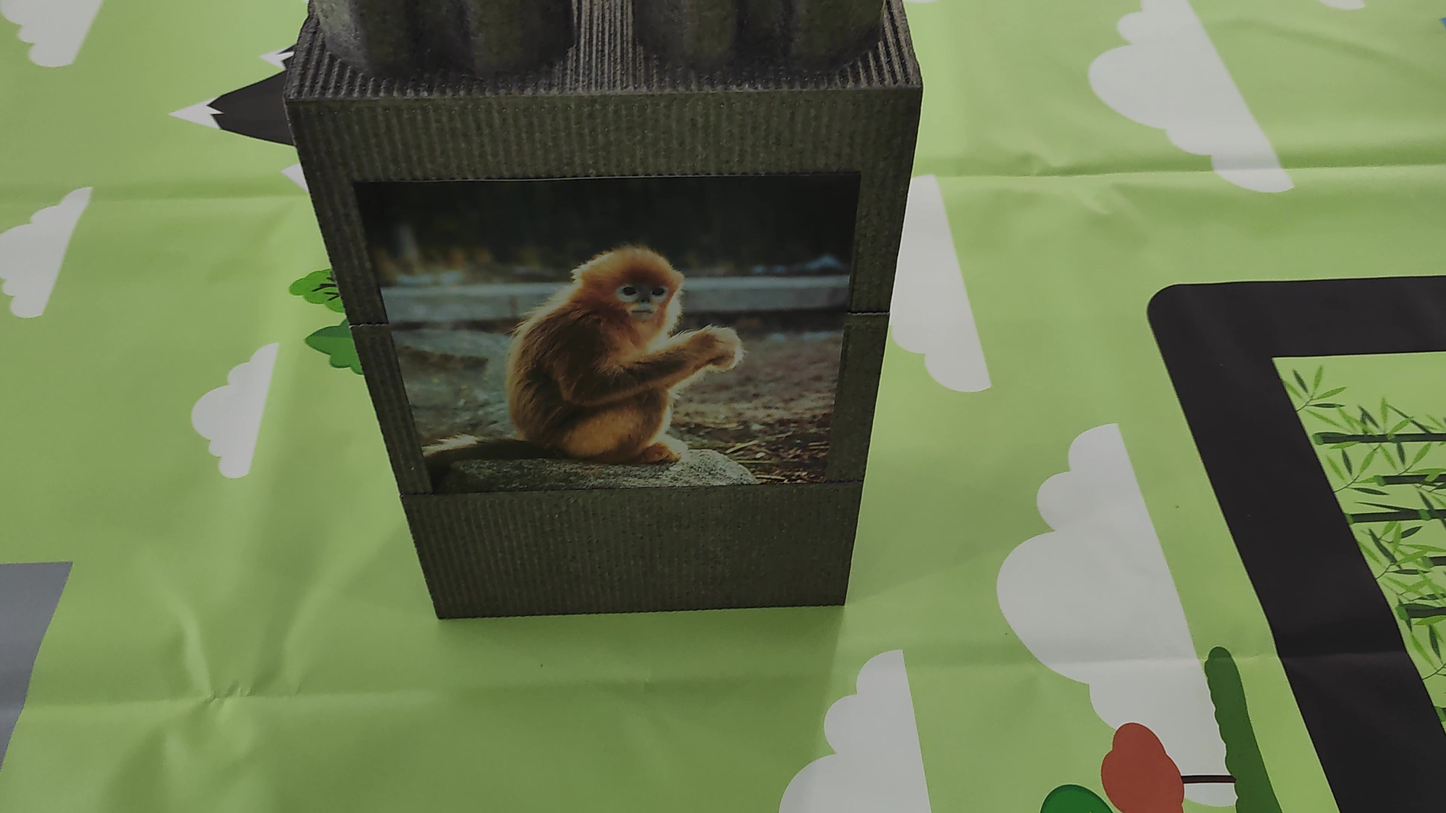monkey: (457, 235, 752, 478)
